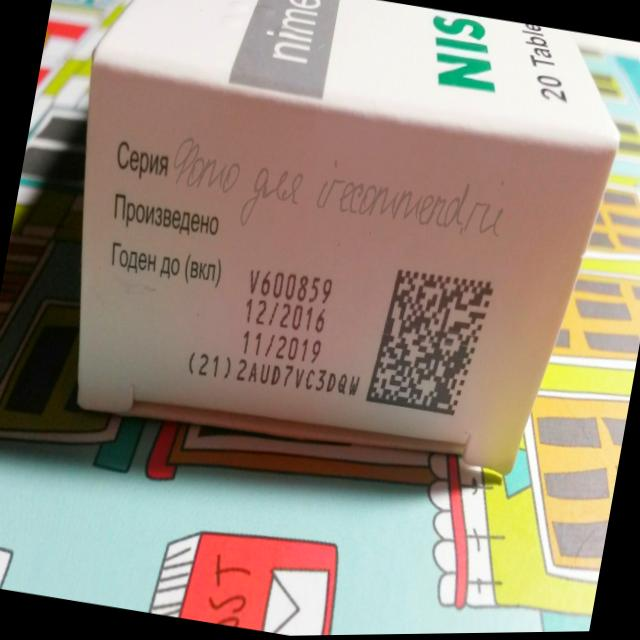datamatrix: (367, 266, 495, 421)
